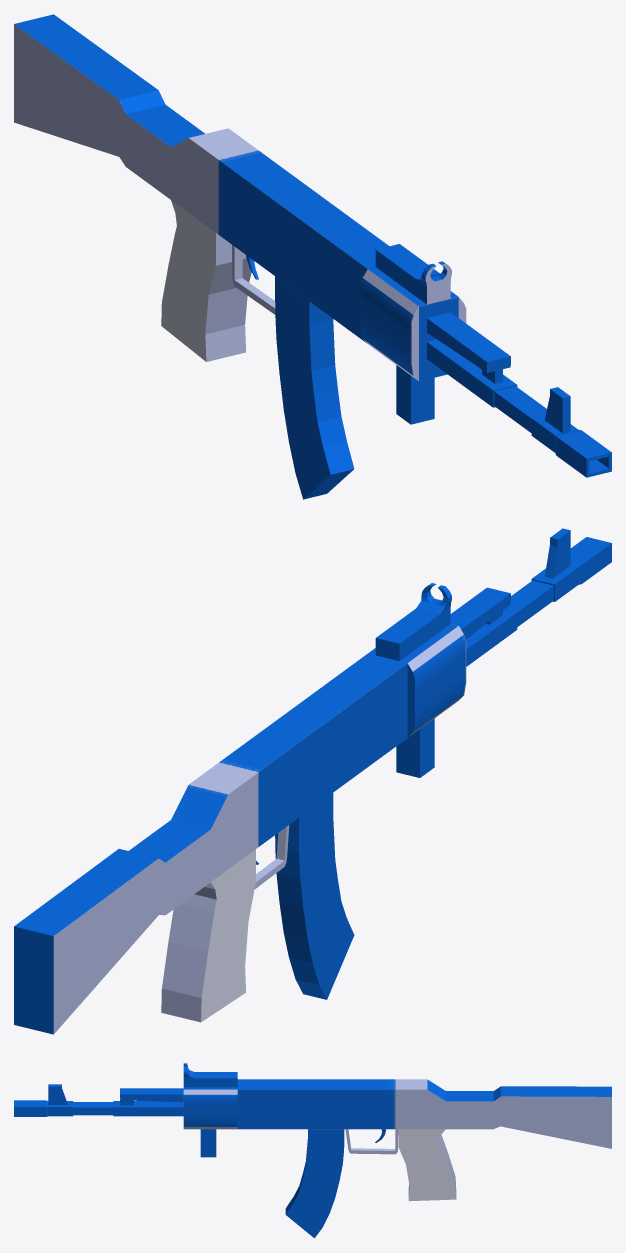
The model's file is raiful.fbx.
The picture shows the model from 3 angles, top to bottom: view 1: azimuth 30°, elevation 25°; view 2: azimuth 150°, elevation 25°; view 3: azimuth 270°, elevation 25°; orthographic projection. The views are drawn at different scales.
Parts seen in each view (by area): view 1: Box001; view 2: Box001; view 3: Box001.
Part boxes in pixels (x1,y1,x2,y2): Box001: (14,14,611,499); Box001: (14,528,611,1034); Box001: (14,1063,611,1238).
Bounding box in the file's own units: 5.79 × 104 × 32.54.
1 material, 1 textured.
